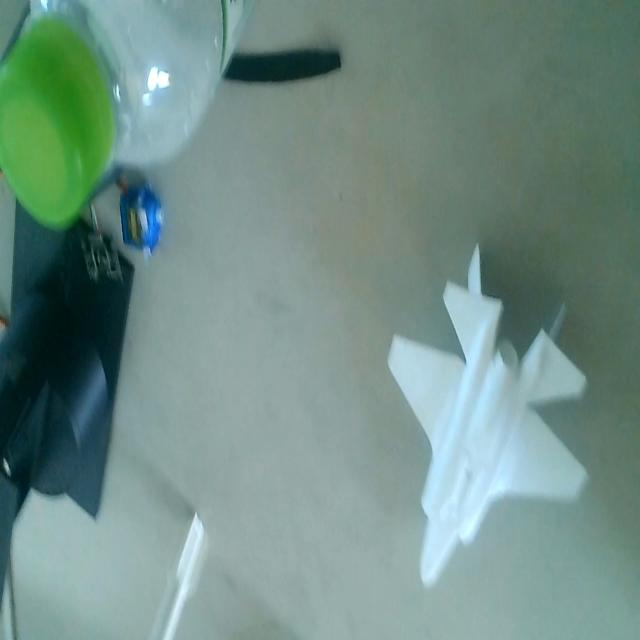Jet: (378, 235, 594, 594)
Rocket: (146, 486, 211, 640)
